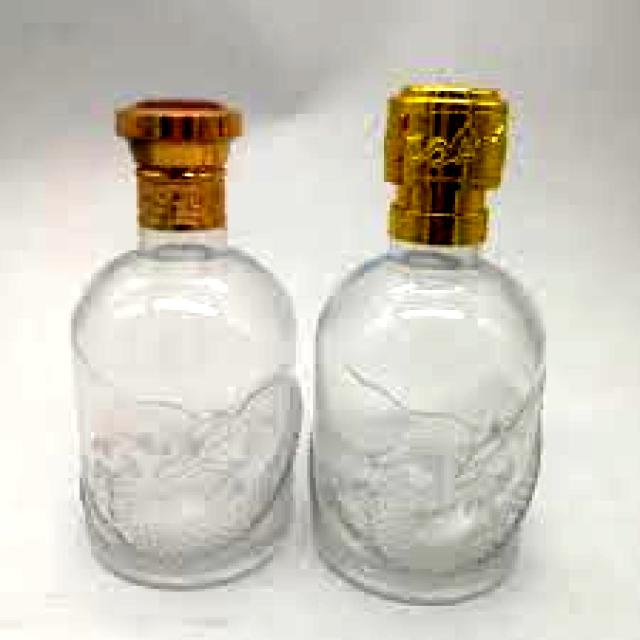Glass: (66, 244, 306, 597), (311, 250, 548, 606)
Metal: (376, 82, 520, 244), (114, 95, 248, 230)
